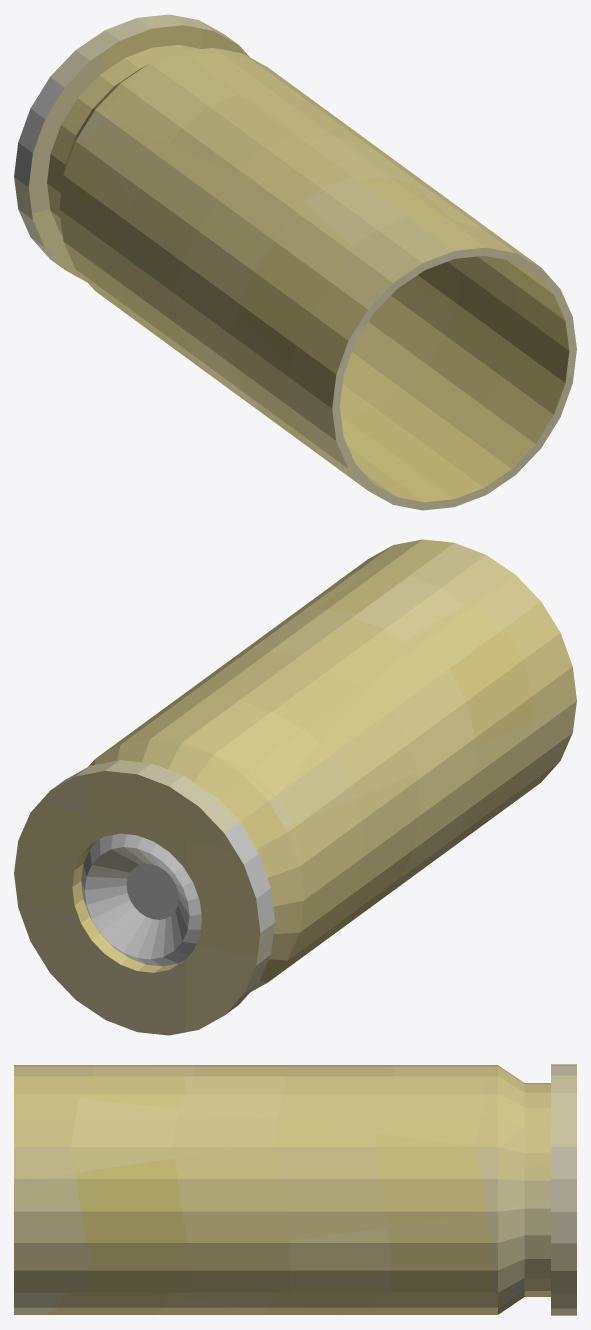
The model's file is bullet_case_rtr.gltf.
3 views of the same model, one above another, from view 1: azimuth 30°, elevation 25°; view 2: azimuth 150°, elevation 25°; view 3: azimuth 270°, elevation 25° (orthographic). The views are drawn at different scales.
Visible parts, largest first — view 1: Bullet Casing_Material.001_0; view 2: Bullet Casing_Material.001_0; view 3: Bullet Casing_Material.001_0.
Part boxes in pixels (box(x1,y1,x2,y2)): Bullet Casing_Material.001_0: box(14, 14, 576, 510); Bullet Casing_Material.001_0: box(14, 539, 576, 1035); Bullet Casing_Material.001_0: box(14, 1064, 576, 1315).
Bounding box in the file's own units: 0.1575 × 0.1575 × 0.3514.
1 material, 1 textured.
